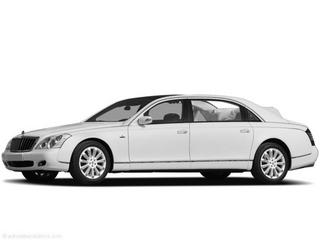car: (2, 95, 318, 183)
